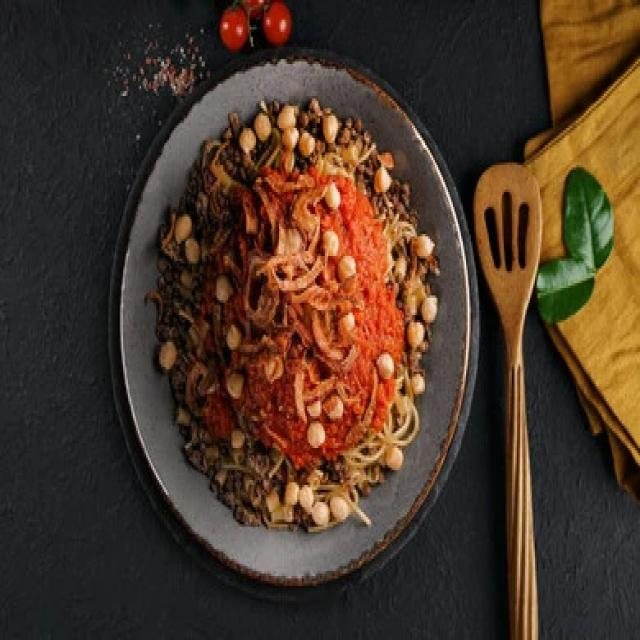koshary: (145, 100, 437, 525)
tmatem: (220, 0, 292, 54)
